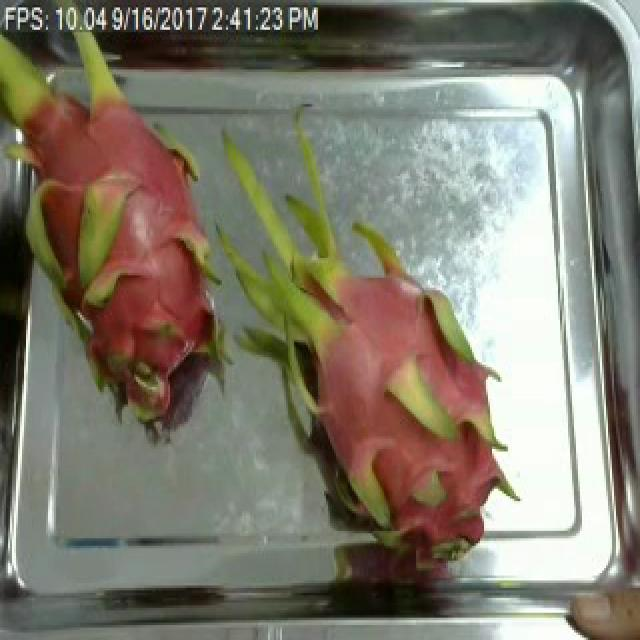Fruit: (556, 560, 640, 640)
